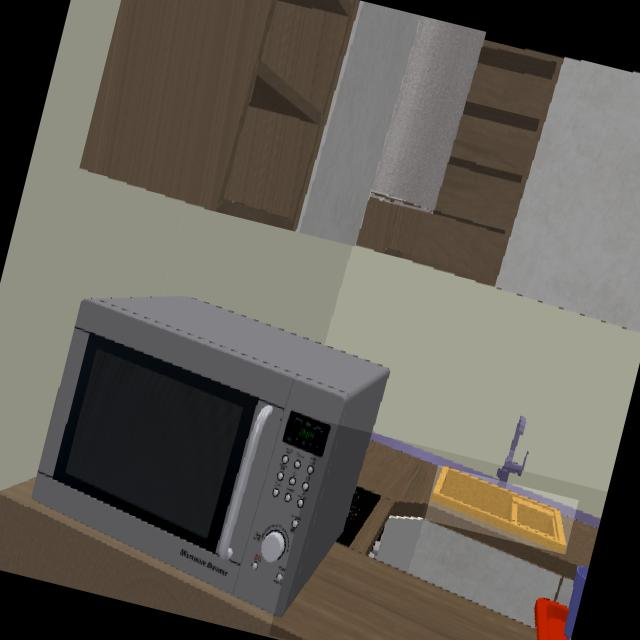countertop: (268, 433, 600, 640)
microwave: (31, 297, 390, 617)
sink: (430, 468, 565, 552)
